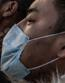with_mask: (1, 2, 65, 83)
